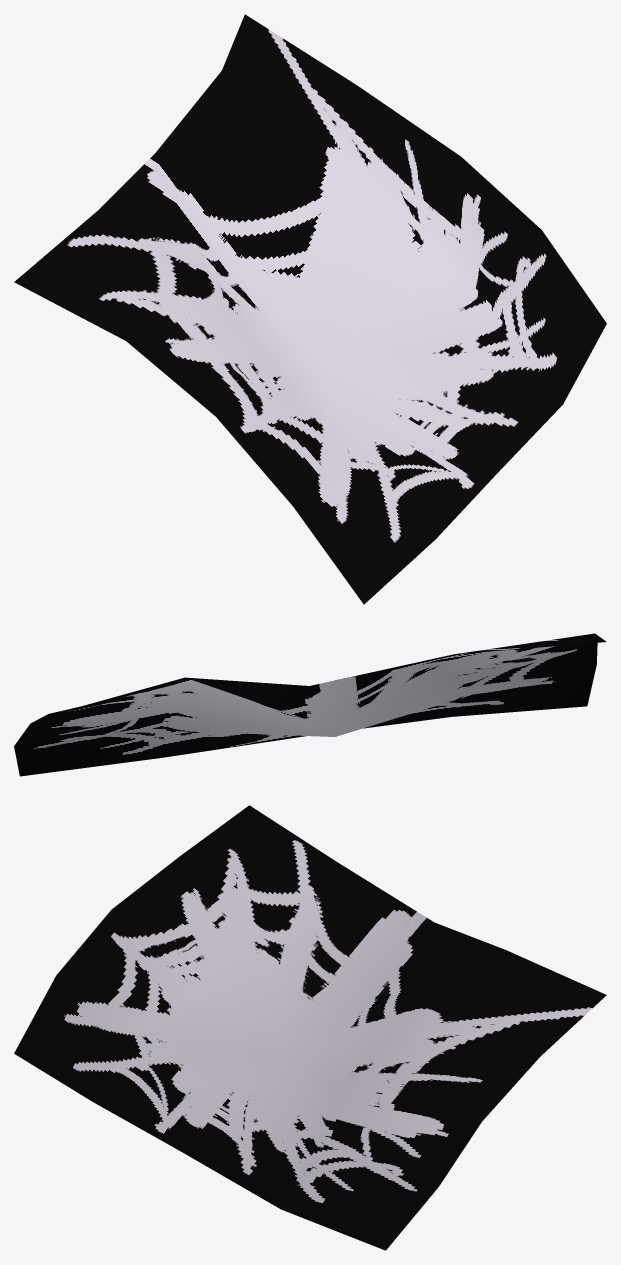
The model's file is TEIAS.fbx.
The picture shows the model from 3 angles, top to bottom: view 1: azimuth 30°, elevation 25°; view 2: azimuth 150°, elevation 25°; view 3: azimuth 270°, elevation 25°; orthographic projection. The views are drawn at different scales.
Parts seen in each view (by area): view 1: TEIA; view 2: TEIA; view 3: TEIA.
Part boxes in pixels (left/top/right/bottom): TEIA: left=14, top=14, right=606, bottom=604; TEIA: left=14, top=633, right=606, bottom=776; TEIA: left=14, top=805, right=606, bottom=1250.
Bounding box in the file's own units: 472 × 182 × 485.
1 material, 1 textured.
